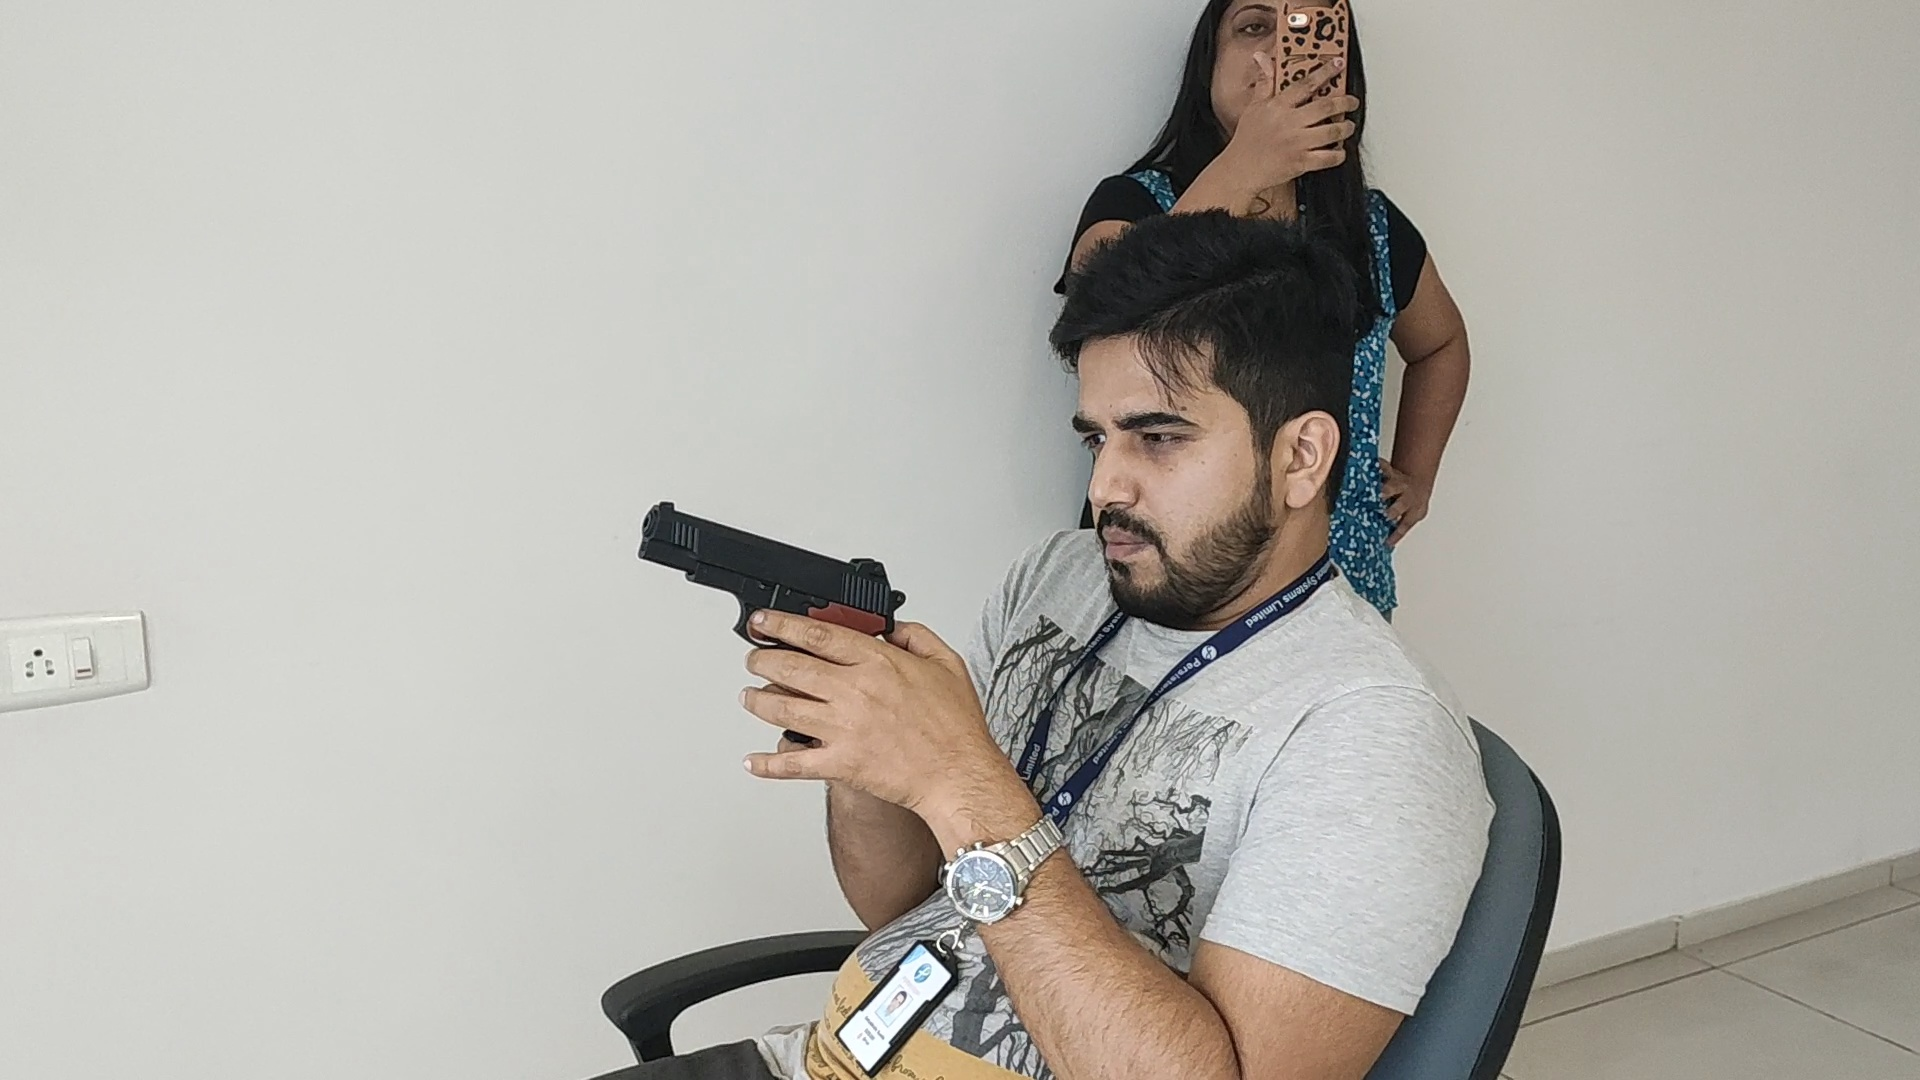gun: (638, 501, 907, 612)
